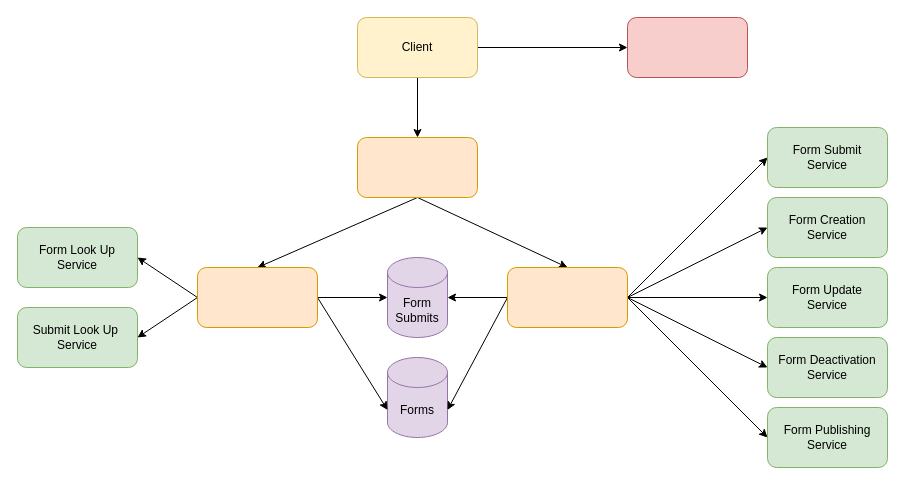
The diagram is 905 pixels wide and 485 high, and some of its shapes have lost their labels. Each missing label, with the centre of its shape:
Forms Cache: point (687, 47)
Read API: point (257, 297)
Web Server: point (417, 167)
Write API: point (567, 297)
